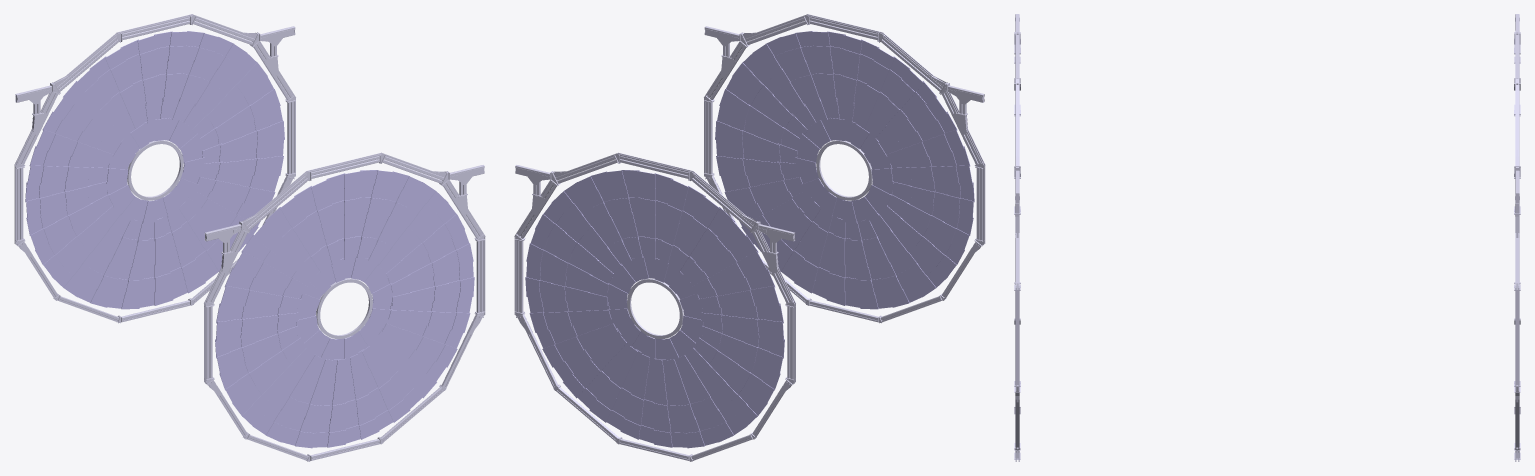
Rendered from TGC3.gltf.
The picture shows the model from 3 angles, left to right: view 1: azimuth 30°, elevation 25°; view 2: azimuth 150°, elevation 25°; view 3: azimuth 270°, elevation 25°; orthographic projection. The views are drawn at different scales.
Parts seen in each view (by area): view 1: _042E6568, _043F8DB8; view 2: _042E6568, _043F8DB8; view 3: _043F8DB8.
Part boxes in pixels (x1,y1,x2,y2): _042E6568: (25, 31, 474, 448); _043F8DB8: (14, 14, 485, 461); _042E6568: (525, 31, 974, 448); _043F8DB8: (514, 14, 985, 461); _043F8DB8: (1014, 14, 1520, 461).
Bounding box in the file's own units: 25.91 × 25.65 × 30.71.
